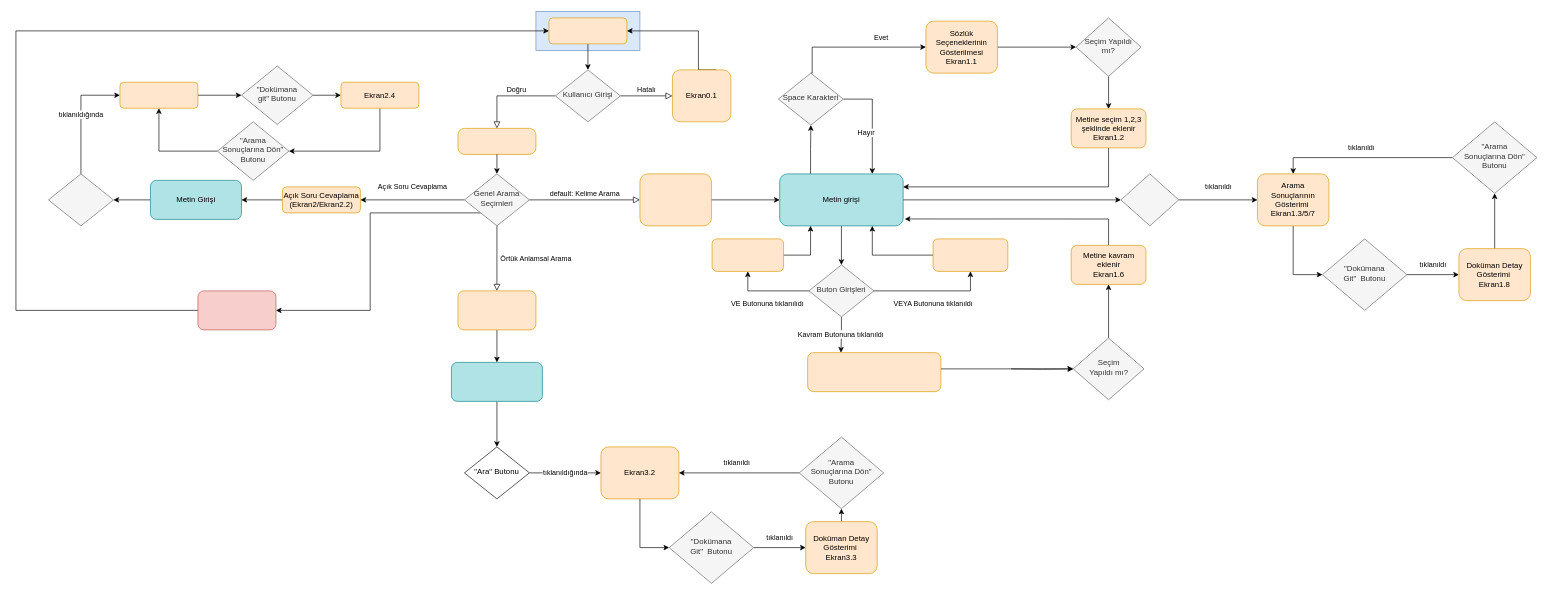
Image size: 1548x595. Some labels were removed from this diagram. The centre of each missing label's shape, as x and y in pixels:
"Ara" Buton: (x=1149, y=199)
"Sor" Butonu: (x=80, y=199)
Ekran0: (x=587, y=30)
Ekran0.2: (x=496, y=141)
Ekran2.3: (x=158, y=95)
Kelime Arama (Ekran1): (x=675, y=199)
Metin Girişi Ekran3.1: (x=496, y=381)
Metine "&" eklenir Ekran1.4: (x=747, y=254)
Metine "|" eklenir Ekran1.4: (x=970, y=254)
Metine <kavramsal> eklenir. Kavram Seçenekleri Gösterilir Ekran1.6: (x=874, y=372)
Çıkış: (x=236, y=310)
Örtük Anlamsal Arama (Ekran3/Ekran3.4): (x=496, y=310)
